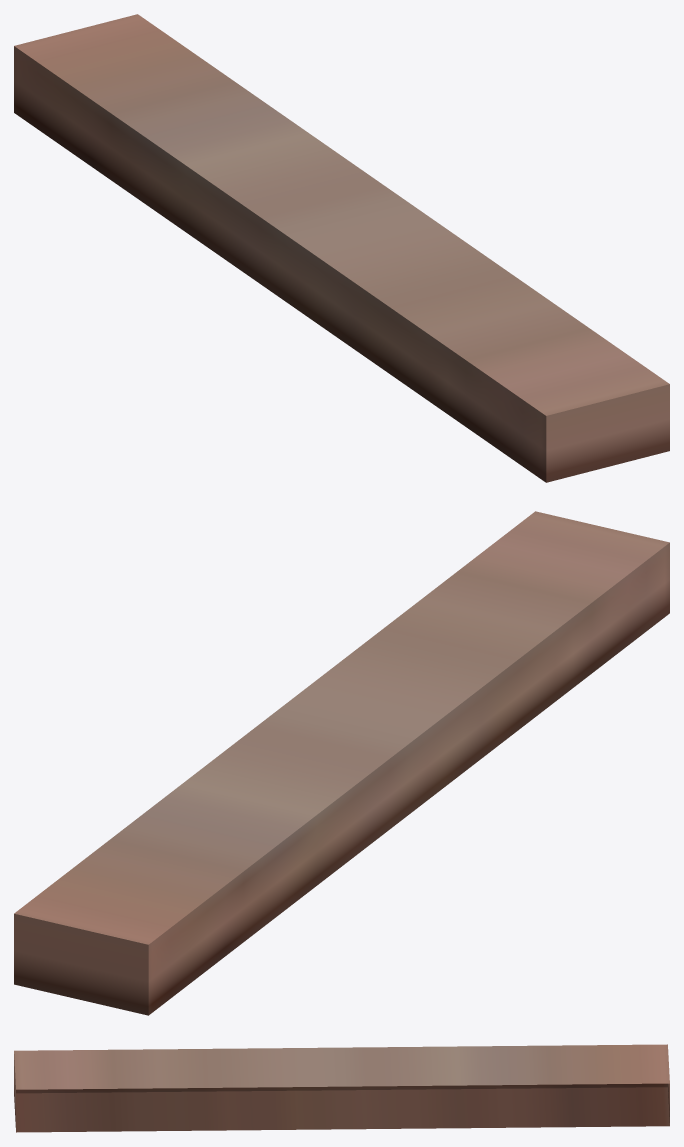
The model's file is object_634_lev3.glb.
3 views of the same model, one above another, from view 1: azimuth 30°, elevation 25°; view 2: azimuth 150°, elevation 25°; view 3: azimuth 270°, elevation 25° (orthographic). The views are drawn at different scales.
Parts seen in each view (by area): view 1: object_634_lev3; view 2: object_634_lev3; view 3: object_634_lev3.
Part boxes in pixels (bbox=[...]): object_634_lev3: bbox=[14, 14, 669, 482]; object_634_lev3: bbox=[14, 511, 669, 1015]; object_634_lev3: bbox=[14, 1044, 669, 1132].
Size of the model in its own units: 0.2414 by 0.1061 by 1.48.
1 material, 1 textured.
